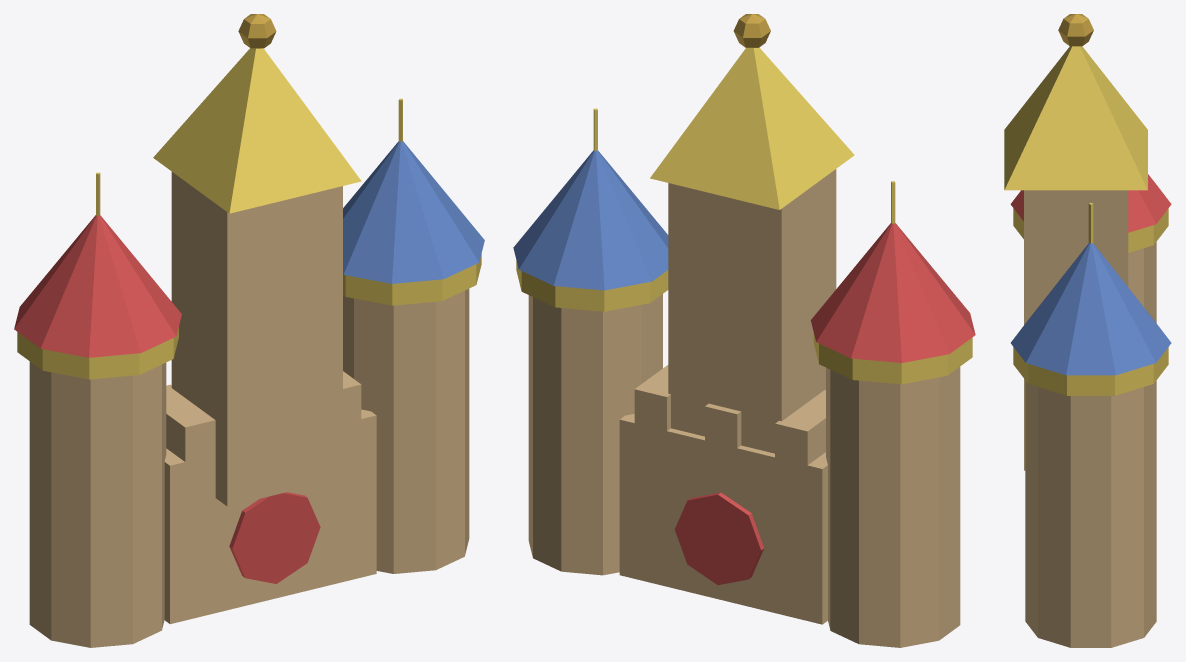
File: castillo_bloques.glb
3 renders of one model, left to right at view 1: azimuth 30°, elevation 25°; view 2: azimuth 150°, elevation 25°; view 3: azimuth 270°, elevation 25°, orthographic. The views are drawn at different scales.
Visible parts, largest first — view 1: castillo_bloques; view 2: castillo_bloques; view 3: castillo_bloques.
Part boxes in pixels (x1,y1,x2,y2): castillo_bloques: [14, 14, 484, 647]; castillo_bloques: [513, 14, 975, 647]; castillo_bloques: [1004, 14, 1171, 647].
Bounding box in the file's own units: 1.61 × 1.99 × 0.5604.
